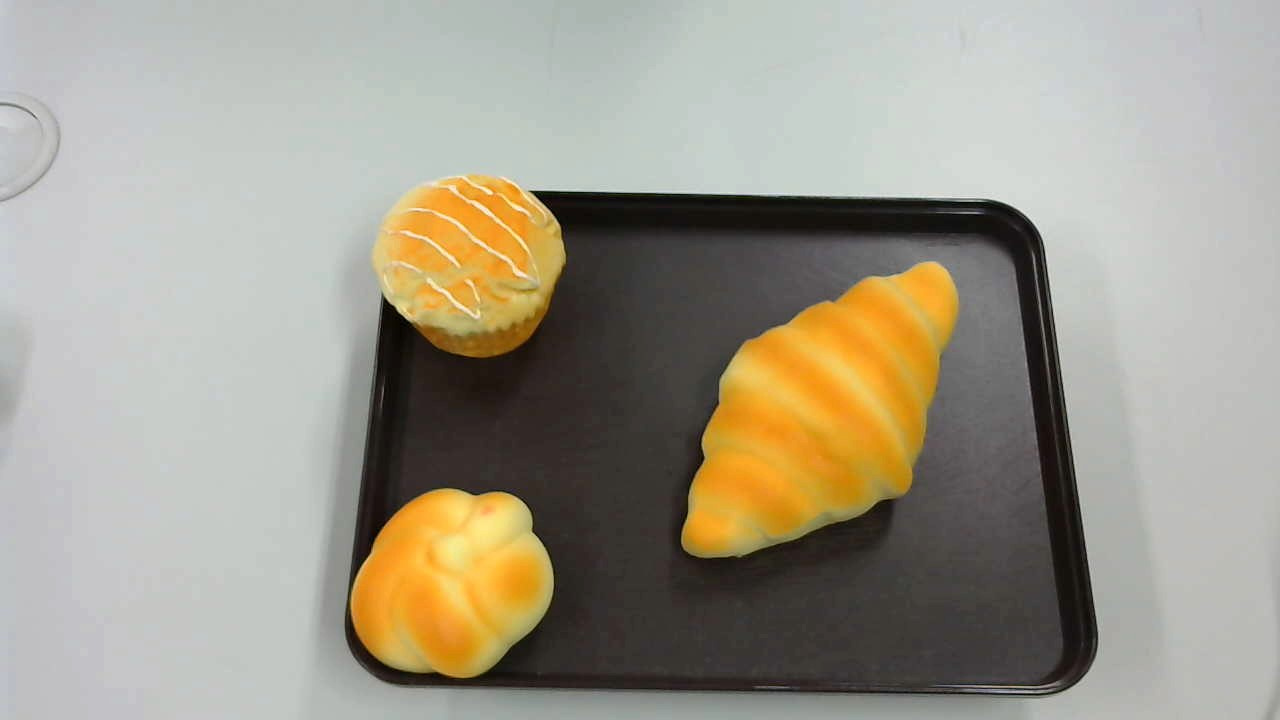croissant: (680, 261, 962, 558), (350, 487, 554, 674)
cupcake: (372, 172, 567, 357)
